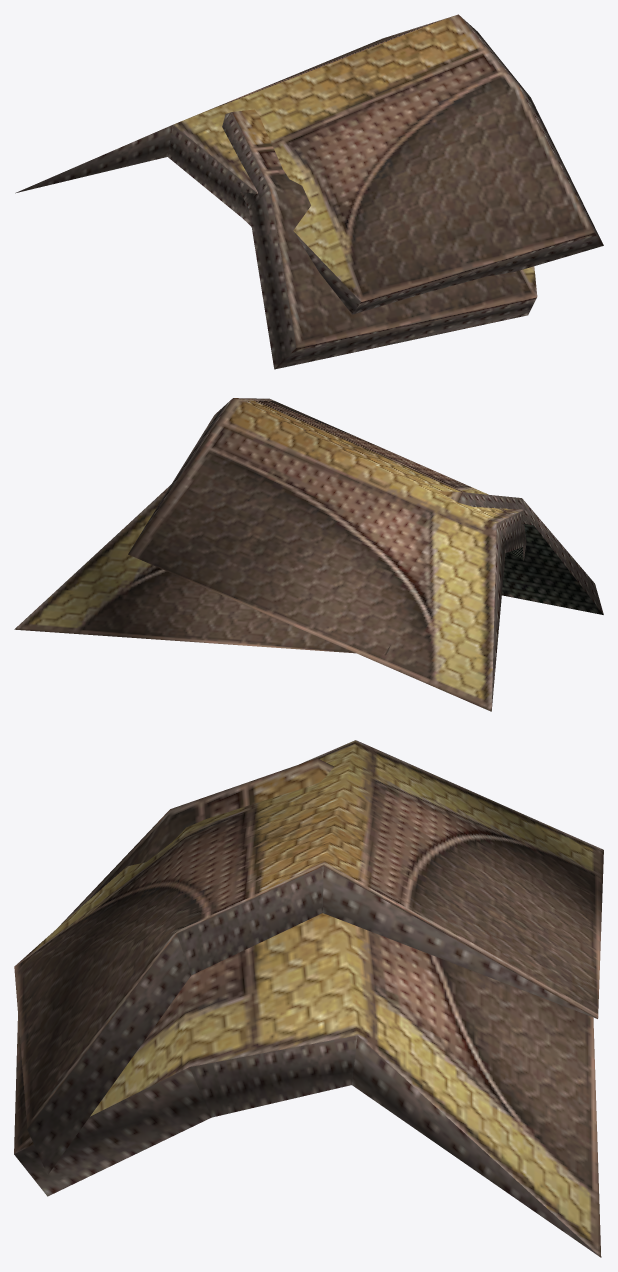
The model's file is ShoulderPads6__CMG.glb.
The picture shows the model from 3 angles, top to bottom: view 1: azimuth 30°, elevation 25°; view 2: azimuth 150°, elevation 25°; view 3: azimuth 270°, elevation 25°; orthographic projection. The views are drawn at different scales.
Visible parts, largest first — view 1: ShoulderPads6; view 2: ShoulderPads6; view 3: ShoulderPads6.
Boxes of the visible parts, <box> form: ShoulderPads6: <box>15,14,603,369</box>; ShoulderPads6: <box>14,398,603,711</box>; ShoulderPads6: <box>14,740,603,1257</box>.
Bounding box in the file's own units: 13.97 × 6.37 × 9.83.
1 material, 1 textured.
